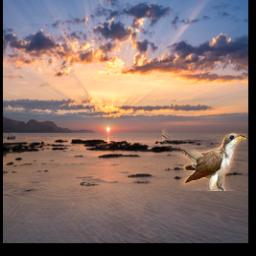Cuckoo: (162, 128, 246, 191)
